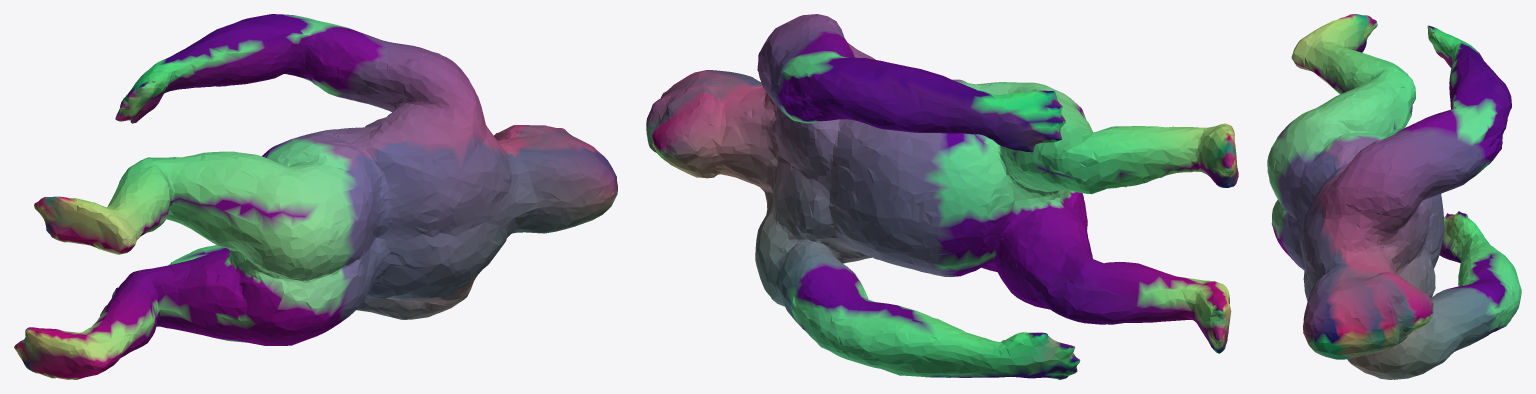
Rendered from gorilla-8.off.obj.
3 renders of one model, left to right at view 1: azimuth 30°, elevation 25°; view 2: azimuth 150°, elevation 25°; view 3: azimuth 270°, elevation 25°, orthographic. The views are drawn at different scales.
Bounding box in the file's own units: 1.72 × 0.8525 × 0.771.
